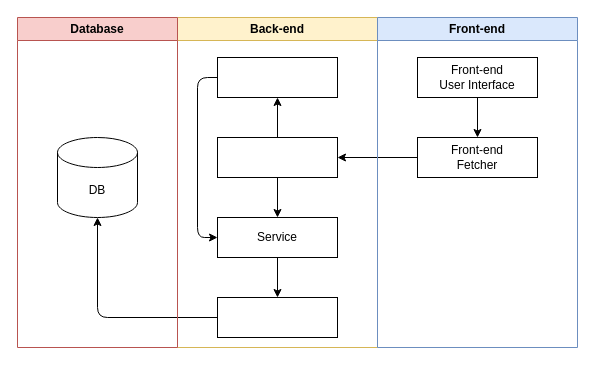
Some shapes in this 595 by 365 pixel diagram are drawn without their labels. Each missing label, with the centre of its shape:
"Assembler" belongs at (277,77).
"Controller" belongs at (277,157).
"Repository" belongs at (277,317).
